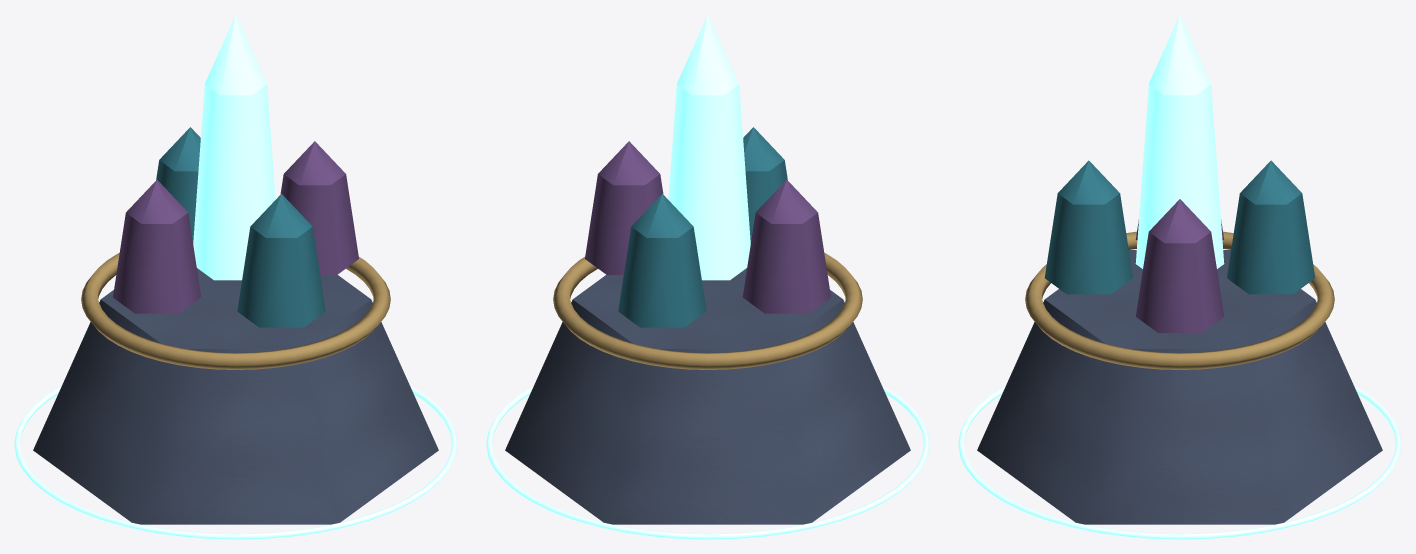
The model's file is station-03.glb.
3 renders of one model, left to right at view 1: azimuth 30°, elevation 25°; view 2: azimuth 150°, elevation 25°; view 3: azimuth 270°, elevation 25°, orthographic.
Parts seen in each view (by area): view 1: ProjectStation_03_stone, Artifact_03_glow, Artifact_03_violet, Artifact_03_teal, ProjectStation_03_gold, ProjectStation_03_glow; view 2: ProjectStation_03_stone, Artifact_03_glow, Artifact_03_violet, Artifact_03_teal, ProjectStation_03_gold, ProjectStation_03_glow; view 3: ProjectStation_03_stone, Artifact_03_teal, Artifact_03_glow, Artifact_03_violet, ProjectStation_03_gold, ProjectStation_03_glow.
Boxes of the visible parts, x1,y1,x2,y2 form: ProjectStation_03_stone: (33,268,438,524); Artifact_03_glow: (193,14,275,280); Artifact_03_violet: (113,141,358,313); Artifact_03_teal: (156,127,325,327); ProjectStation_03_gold: (81,253,390,369); ProjectStation_03_glow: (14,385,457,539); ProjectStation_03_stone: (505,268,910,524); Artifact_03_glow: (668,14,750,280); Artifact_03_violet: (585,141,830,313); Artifact_03_teal: (618,127,787,327); ProjectStation_03_gold: (553,253,862,369); ProjectStation_03_glow: (486,385,929,539); ProjectStation_03_stone: (977,250,1382,524); Artifact_03_teal: (1044,160,1315,294); Artifact_03_glow: (1135,14,1224,268); Artifact_03_violet: (1136,199,1223,332); ProjectStation_03_gold: (1025,231,1334,369); ProjectStation_03_glow: (958,385,1401,539).
Size of the model in its own units: 1.7 by 1.85 by 1.7.
Materials: 5 (1 with a texture image).
